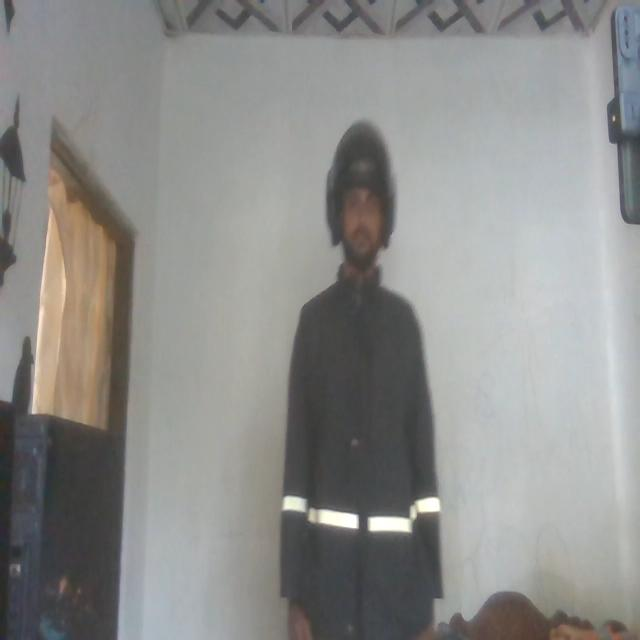Helmet_Wearer: (325, 121, 391, 291)
Jacket_Wearer: (283, 282, 445, 618)
Person: (279, 127, 444, 631)
